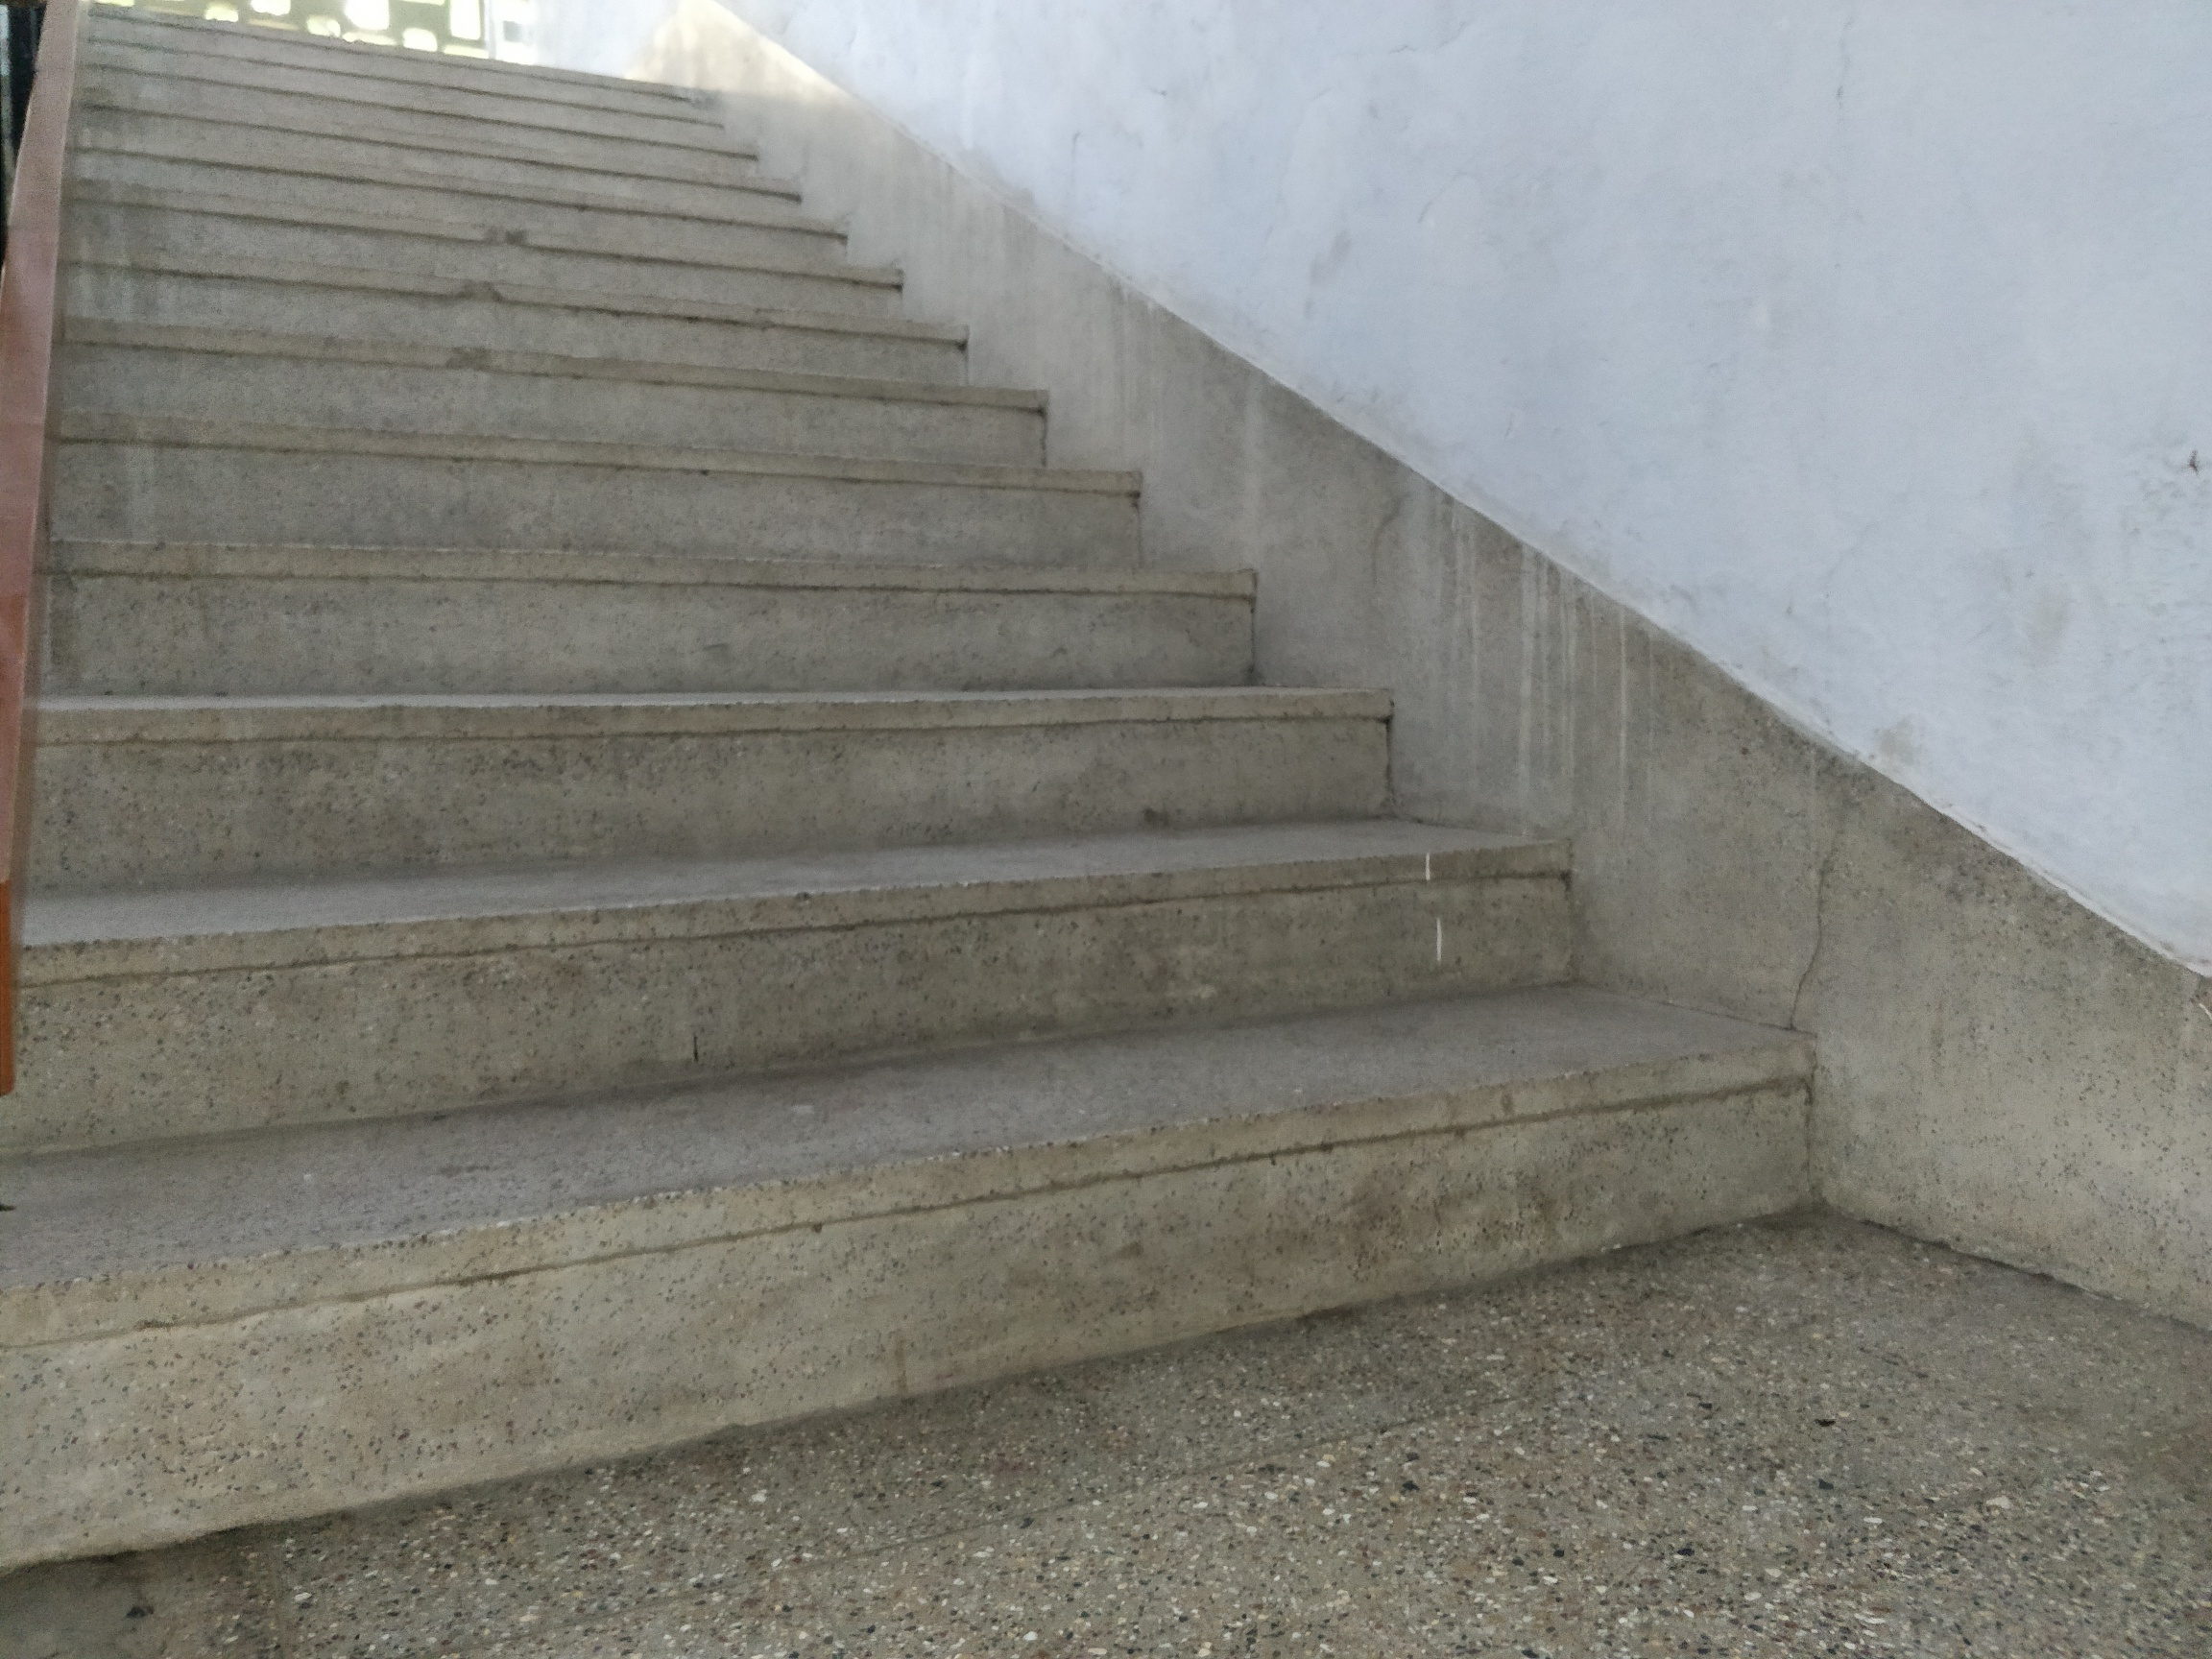stairs_up: (23, 12, 1763, 1363)
